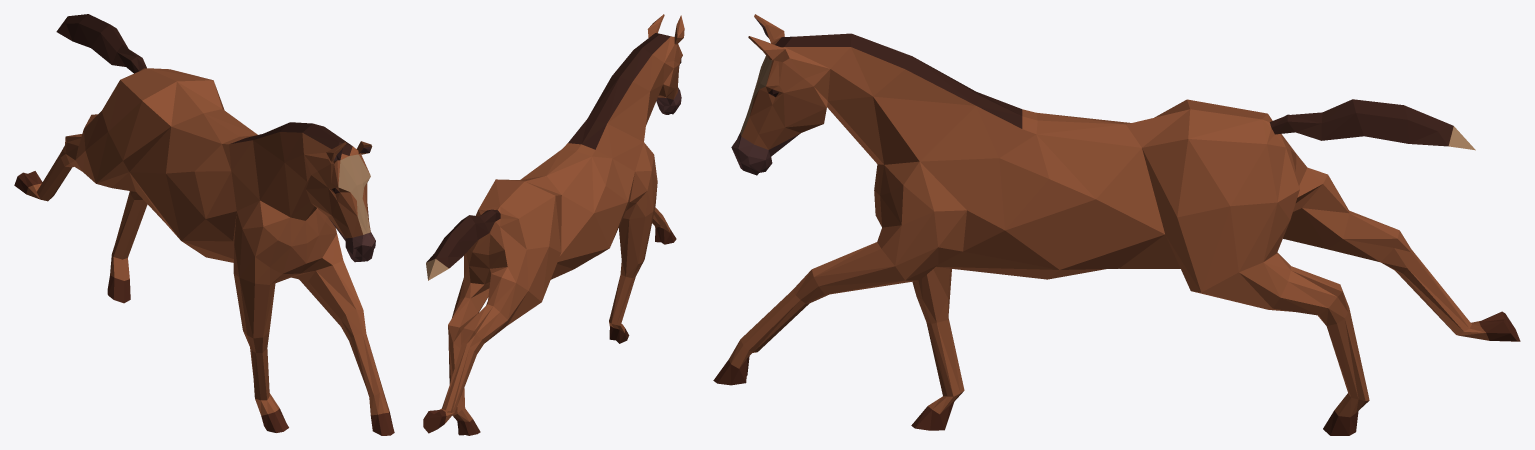
The model's file is Horse.glb.
The picture shows the model from 3 angles, left to right: view 1: azimuth 30°, elevation 25°; view 2: azimuth 150°, elevation 25°; view 3: azimuth 270°, elevation 25°; orthographic projection. The views are drawn at different scales.
Bounding box in the file's own units: 61.1 × 182 × 322.
